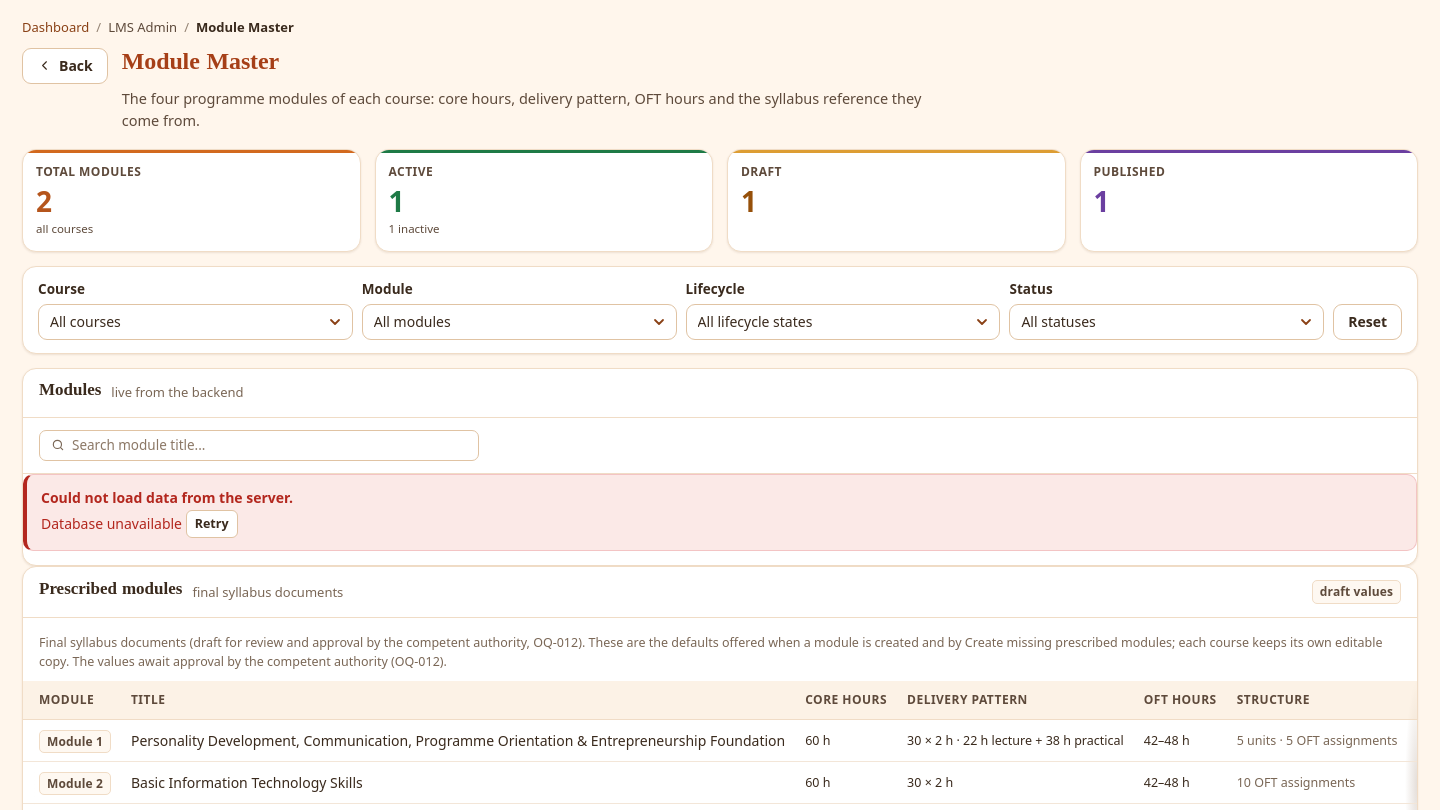
<CourseModuleList> › shows an error with a working Retry
The width and height of the screenshot is (1440, 810).
Check: the text "Database unavailable" is shown, box x1=41 y1=514 x2=182 y2=532
Click the button "Retry": [212, 524] box x1=186 y1=510 x2=238 y2=538
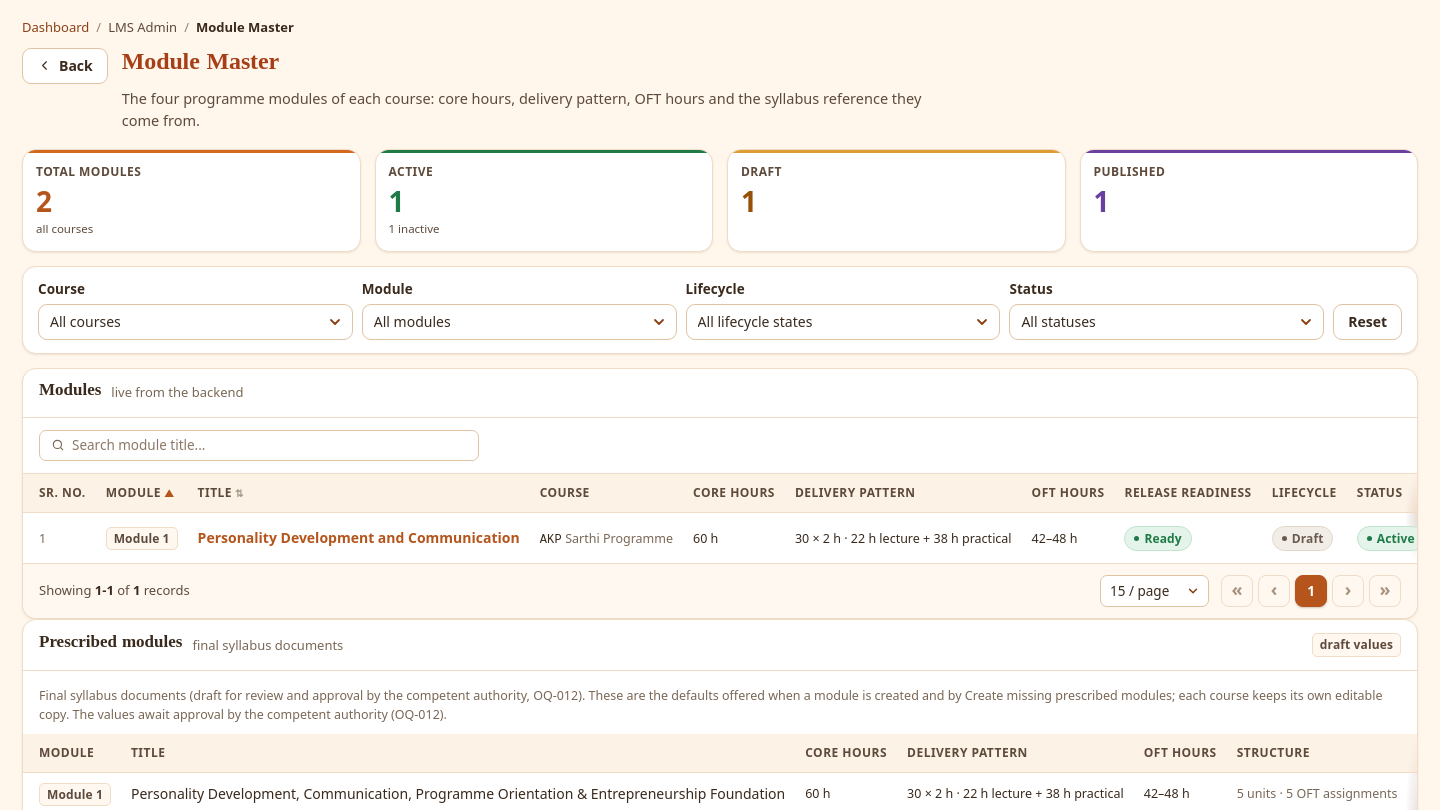
Check: the text "Personality Development and Communication" is shown, box x1=198 y1=528 x2=520 y2=548
